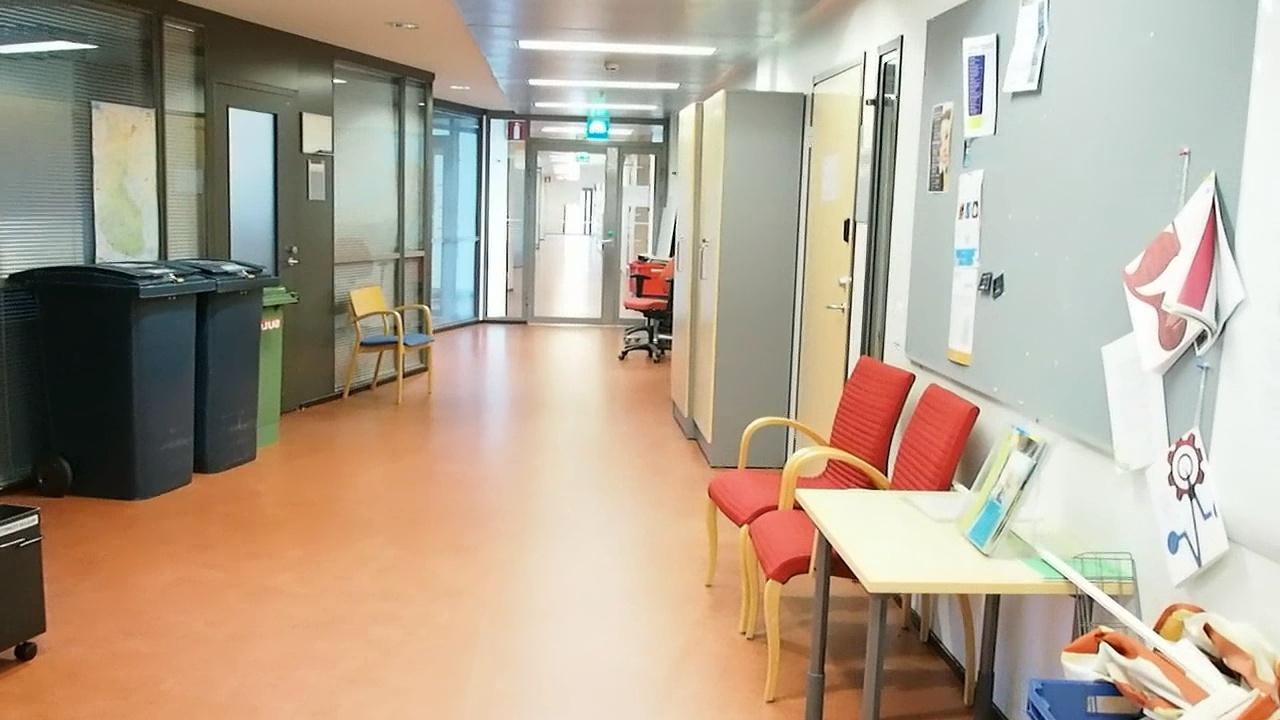chair: (334, 286, 430, 401)
trashbin: (31, 254, 216, 502), (204, 256, 279, 477), (256, 277, 305, 455)
